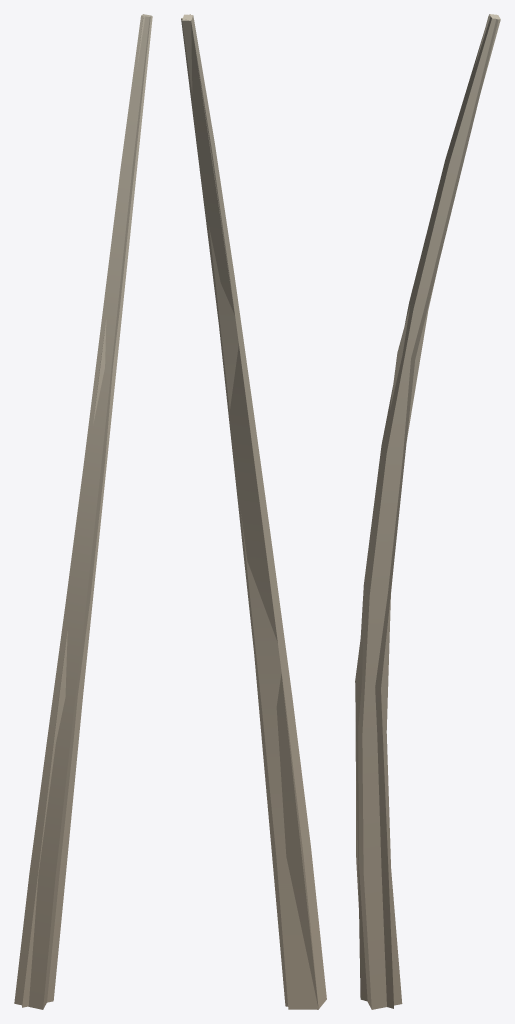
Rendered from sea_whip.glb.
3 renders of one model, left to right at view 1: azimuth 30°, elevation 25°; view 2: azimuth 210°, elevation 25°; view 3: azimuth 330°, elevation 25°, orthographic. The views are drawn at different scales.
Parts seen in each view (by area): view 1: sea_whip, sea_whip_lo; view 2: sea_whip, sea_whip_lo; view 3: sea_whip, sea_whip_lo.
Boxes of the visible parts, x1,y1,x2,y2 form: sea_whip: (14,14,151,1009); sea_whip_lo: (22,14,152,1007); sea_whip: (182,14,326,1009); sea_whip_lo: (181,14,318,1009); sea_whip: (355,14,500,1009); sea_whip_lo: (355,15,498,1008).
Bounding box in the file's own units: 0.1459 × 1 × 0.0818.
